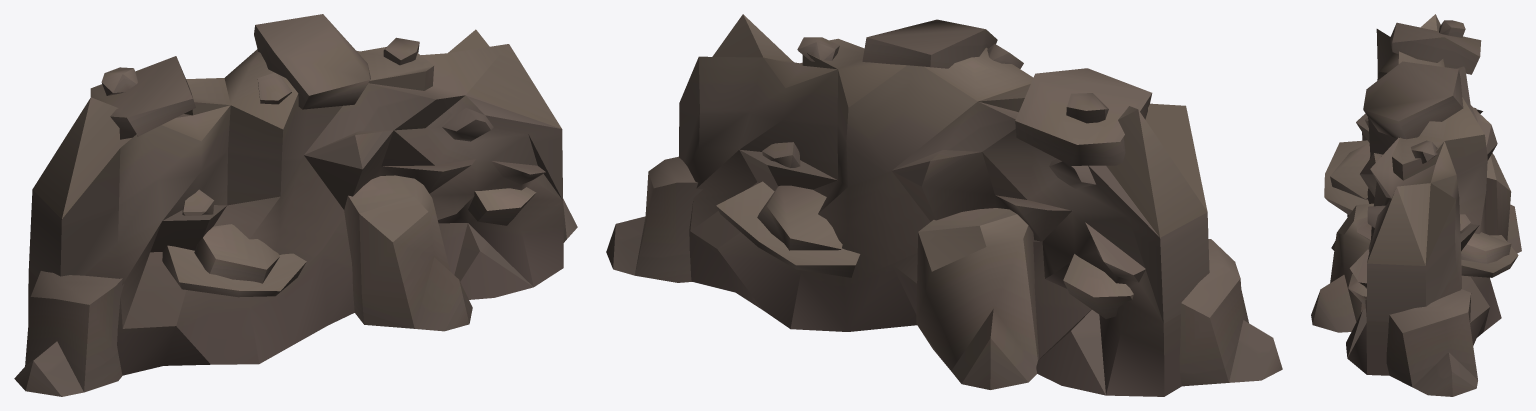
Rendered from rubble.glb.
3 views of the same model, side by side, from view 1: azimuth 30°, elevation 25°; view 2: azimuth 150°, elevation 25°; view 3: azimuth 270°, elevation 25° (orthographic). The views are drawn at different scales.
Parts seen in each view (by area): view 1: rubble_large; view 2: rubble_large; view 3: rubble_large.
Boxes of the visible parts, x1,y1,x2,y2 form: rubble_large: [14, 14, 577, 396]; rubble_large: [606, 14, 1282, 396]; rubble_large: [1311, 14, 1521, 396].
Size of the model in its own units: 8.13 by 3.5 by 3.18.
1 material, 1 textured.
